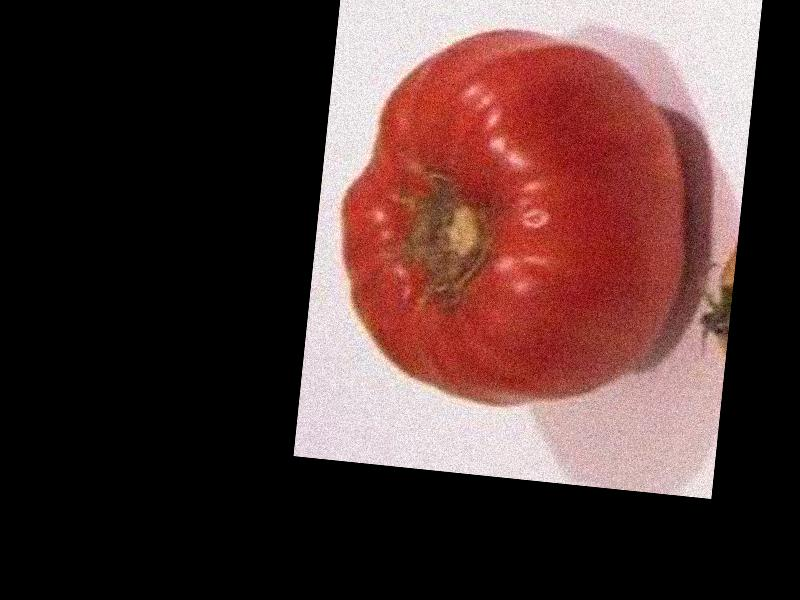Tomato: (325, 18, 699, 420)
